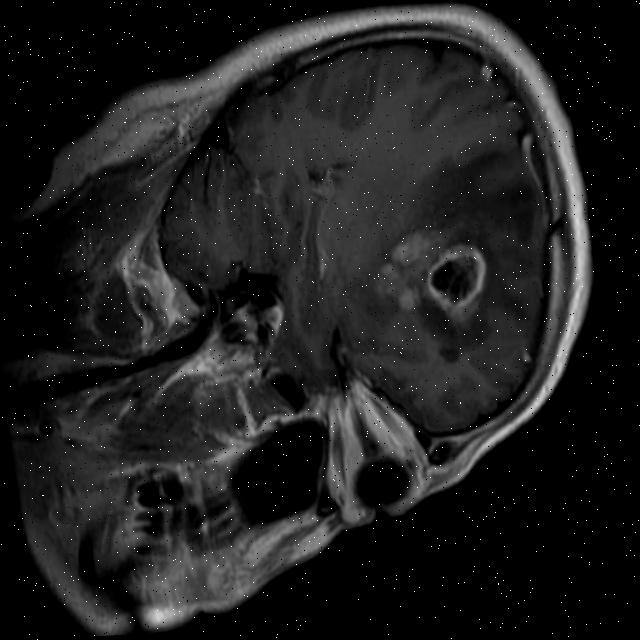Glioma: (370, 222, 493, 327)
